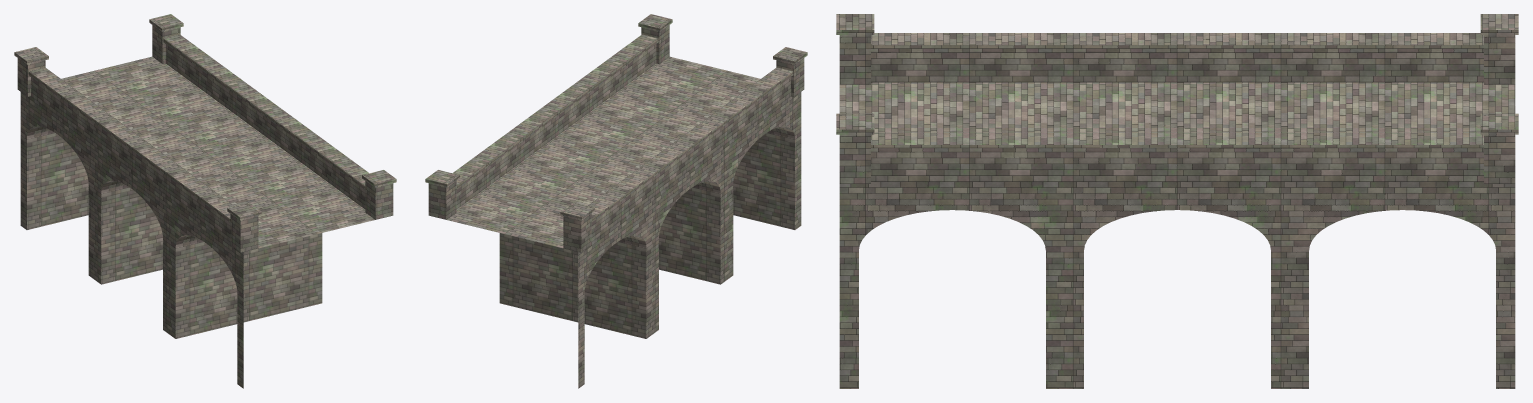
Rendered from SM_dw_bridge.glb.
3 views of the same model, side by side, from view 1: azimuth 30°, elevation 25°; view 2: azimuth 150°, elevation 25°; view 3: azimuth 270°, elevation 25° (orthographic). The views are drawn at different scales.
Parts seen in each view (by area): view 1: SM_dw_bridge; view 2: SM_dw_bridge; view 3: SM_dw_bridge.
Boxes of the visible parts, x1,y1,x2,y2 form: SM_dw_bridge: [14, 14, 396, 388]; SM_dw_bridge: [425, 14, 807, 388]; SM_dw_bridge: [836, 14, 1518, 388].
Size of the model in its own units: 7.9 by 8.38 by 19.7.
1 material, 1 textured.
